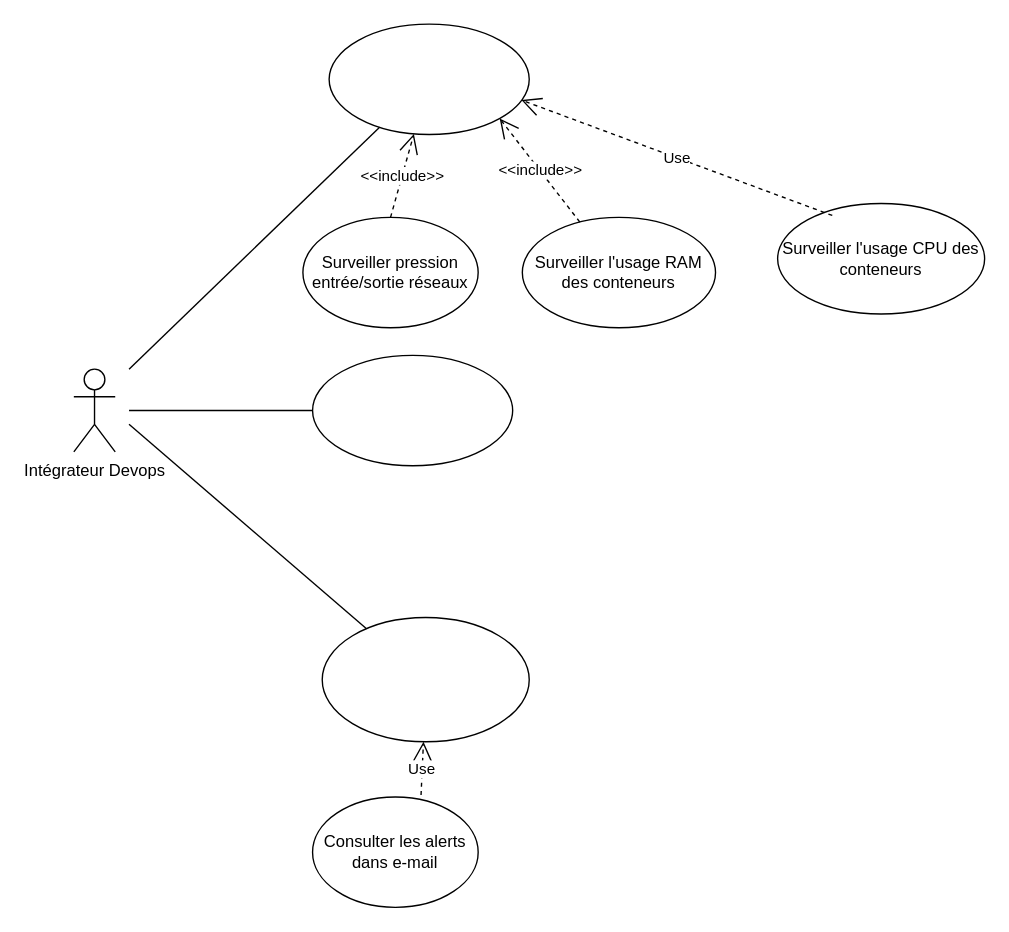
Some shapes in this 1009 by 932 pixel diagram are drawn without their labels. Here are the shapes that lost their labels. From the top down, the centre of each, then its label:
At point 428,79: "Surveiller l'état des conteneurs".
At point 412,410: "Créer des dashboards de monitoring dans Grafana".
At point 425,679: "Configurer des alertes personnalisées dans Grafana".
